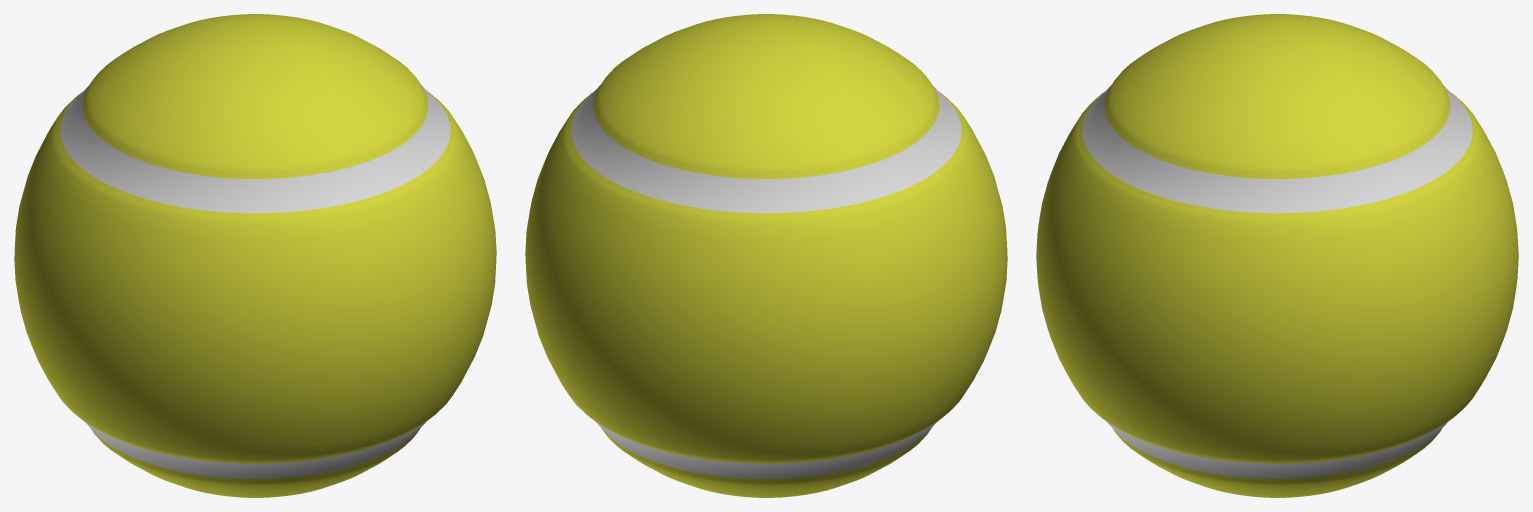
File: Ball powerup.fbx
The picture shows the model from 3 angles, left to right: view 1: azimuth 30°, elevation 25°; view 2: azimuth 150°, elevation 25°; view 3: azimuth 270°, elevation 25°; orthographic projection.
Parts seen in each view (by area): view 1: Ball powerup; view 2: Ball powerup; view 3: Ball powerup.
Boxes of the visible parts, left/top/right/bottom form: Ball powerup: left=14, top=14, right=496, bottom=497; Ball powerup: left=525, top=14, right=1007, bottom=497; Ball powerup: left=1036, top=14, right=1518, bottom=497.
Bounding box in the file's own units: 198 × 200 × 198.
